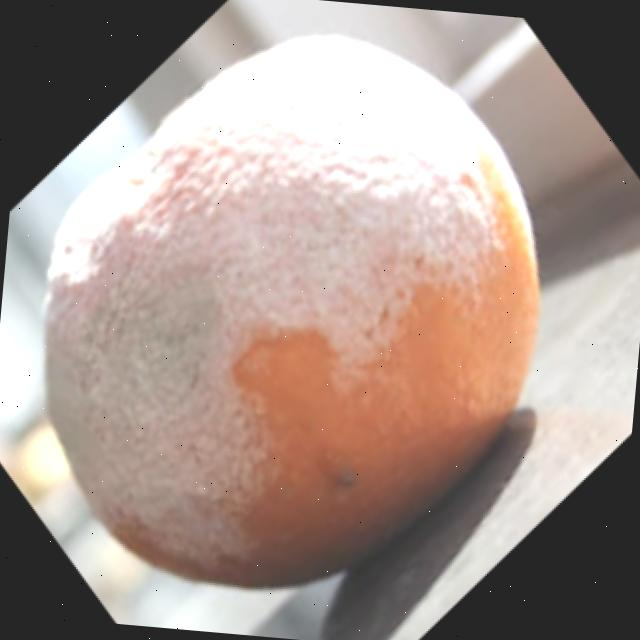Rotten: (22, 9, 560, 612)
